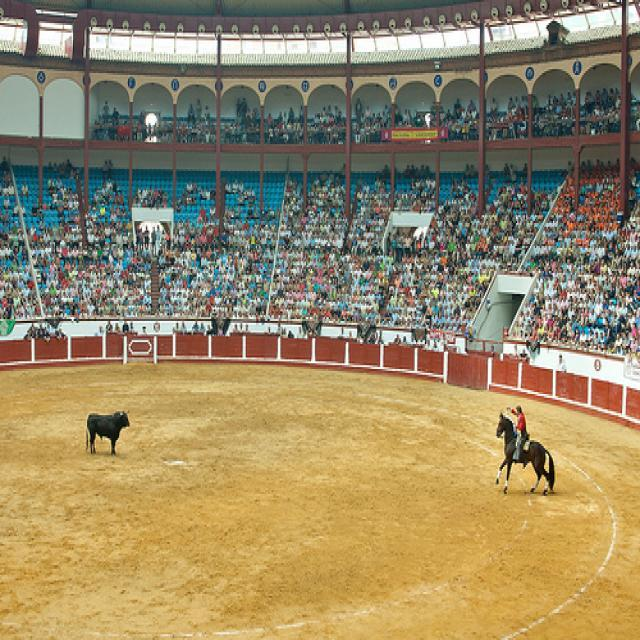cow: (83, 408, 127, 454)
